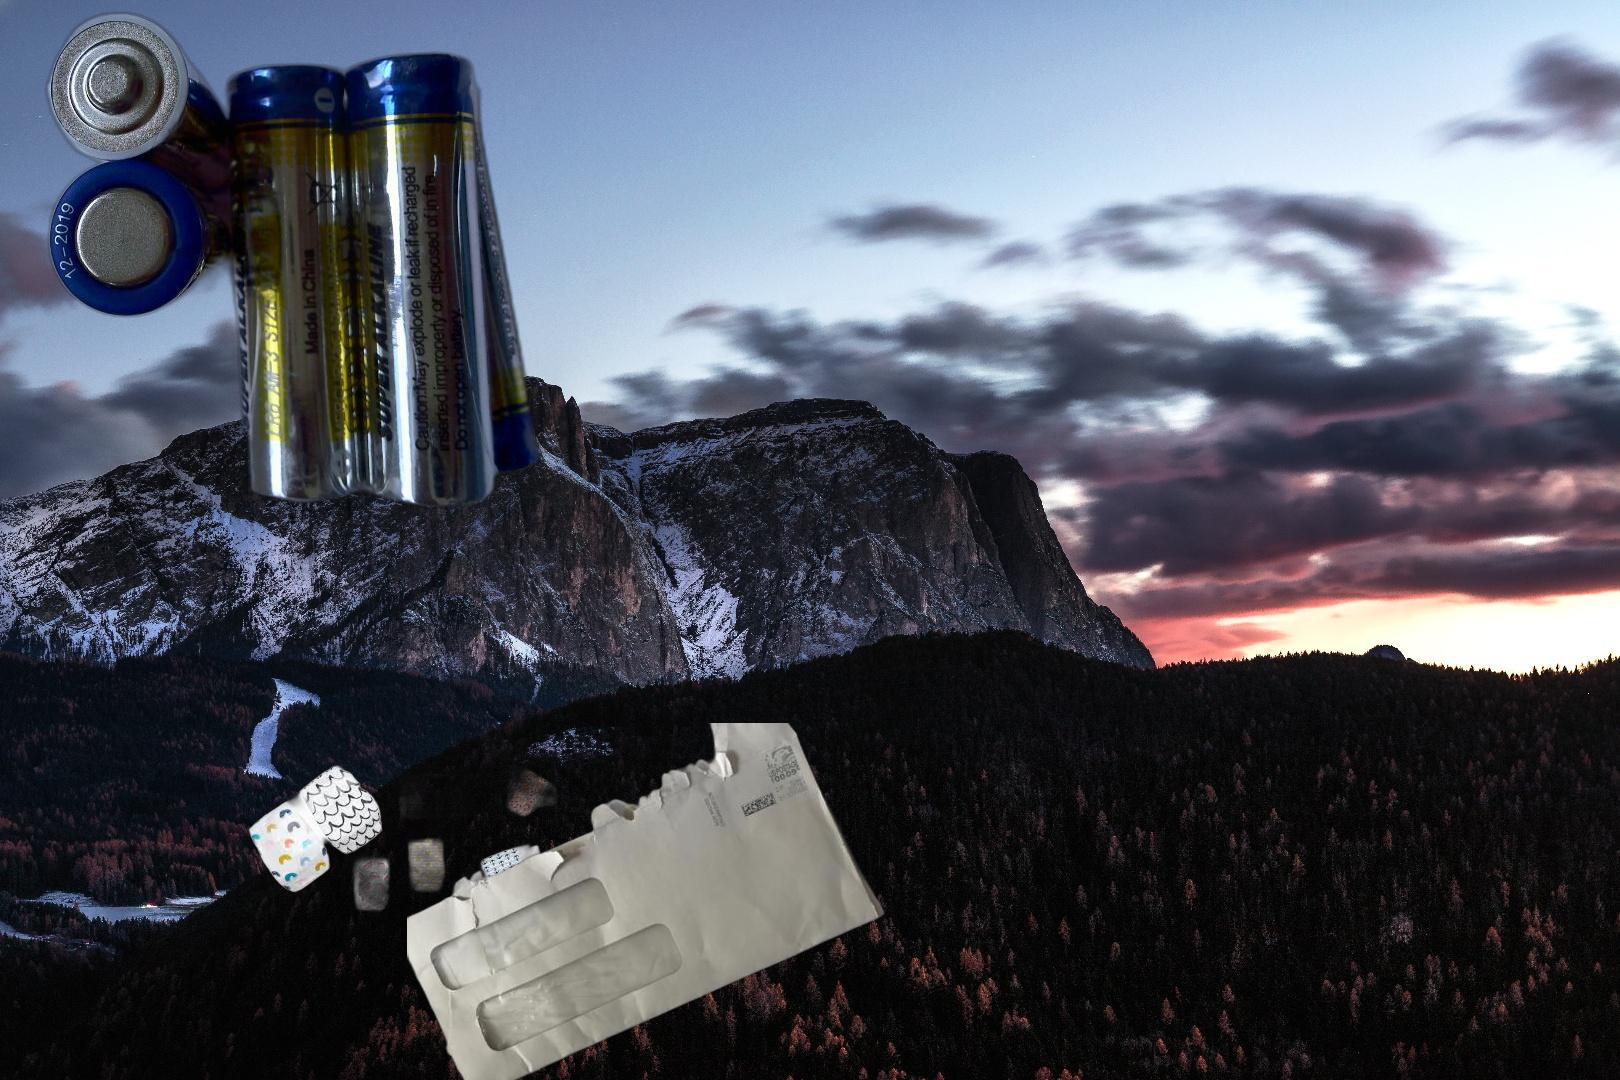battery: (37, 6, 549, 513)
paper: (407, 723, 889, 1080)
plastic-bag: (1602, 520, 1620, 679)
trash: (247, 758, 565, 917)
